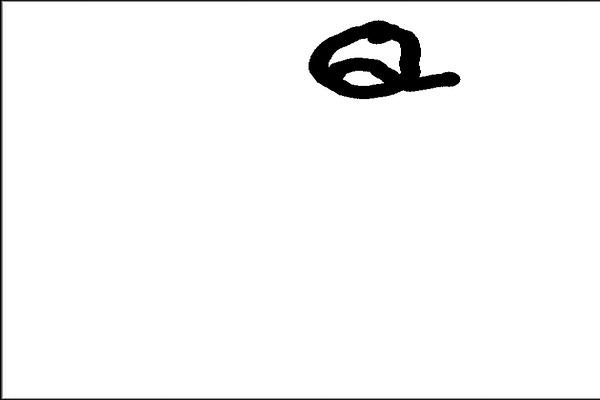Q: (304, 10, 457, 113)
